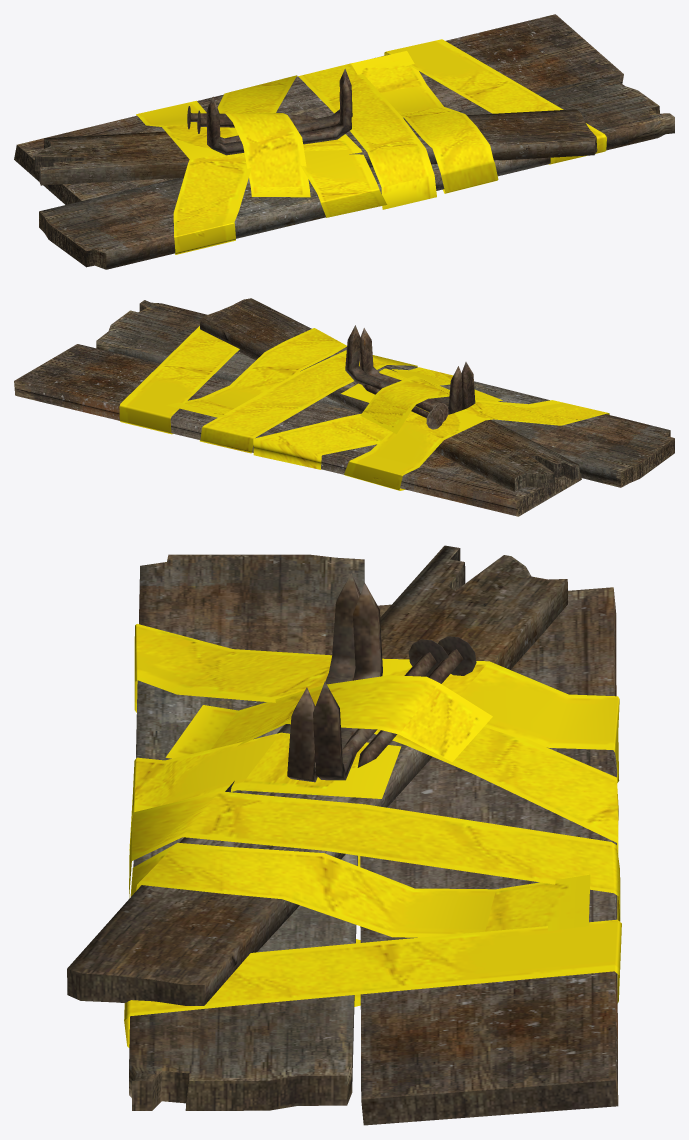
The model's file is sm70_202_woodbarricade01a.fbx.
3 renders of one model, top to bottom at view 1: azimuth 30°, elevation 25°; view 2: azimuth 150°, elevation 25°; view 3: azimuth 270°, elevation 25°, orthographic. The views are drawn at different scales.
Parts seen in each view (by area): view 1: LOD_1_Group_0_Sub_1__sm70_202_WoodBarricade01A_A_Mat, LOD_1_Group_1_Sub_1__sm70_202_WoodBarricade01A_B_Mat, LOD_1_Group_2_Sub_1__sm70_202_WoodBarricade01A_A_Mat; view 2: LOD_1_Group_0_Sub_1__sm70_202_WoodBarricade01A_A_Mat, LOD_1_Group_1_Sub_1__sm70_202_WoodBarricade01A_B_Mat, LOD_1_Group_2_Sub_1__sm70_202_WoodBarricade01A_A_Mat; view 3: LOD_1_Group_0_Sub_1__sm70_202_WoodBarricade01A_A_Mat, LOD_1_Group_1_Sub_1__sm70_202_WoodBarricade01A_B_Mat, LOD_1_Group_2_Sub_1__sm70_202_WoodBarricade01A_A_Mat.
Boxes of the visible parts, x1,y1,x2,y2 form: LOD_1_Group_0_Sub_1__sm70_202_WoodBarricade01A_A_Mat: (14,14,674,269); LOD_1_Group_1_Sub_1__sm70_202_WoodBarricade01A_B_Mat: (136,39,606,254); LOD_1_Group_2_Sub_1__sm70_202_WoodBarricade01A_A_Mat: (187,68,352,155); LOD_1_Group_0_Sub_1__sm70_202_WoodBarricade01A_A_Mat: (14,298,674,516); LOD_1_Group_1_Sub_1__sm70_202_WoodBarricade01A_B_Mat: (119,326,609,490); LOD_1_Group_2_Sub_1__sm70_202_WoodBarricade01A_A_Mat: (345,325,475,429); LOD_1_Group_0_Sub_1__sm70_202_WoodBarricade01A_A_Mat: (67,545,618,1125); LOD_1_Group_1_Sub_1__sm70_202_WoodBarricade01A_B_Mat: (124,624,621,1047); LOD_1_Group_2_Sub_1__sm70_202_WoodBarricade01A_A_Mat: (287,573,476,782).
Size of the model in its own units: 1.49 by 0.2443 by 0.6514.
